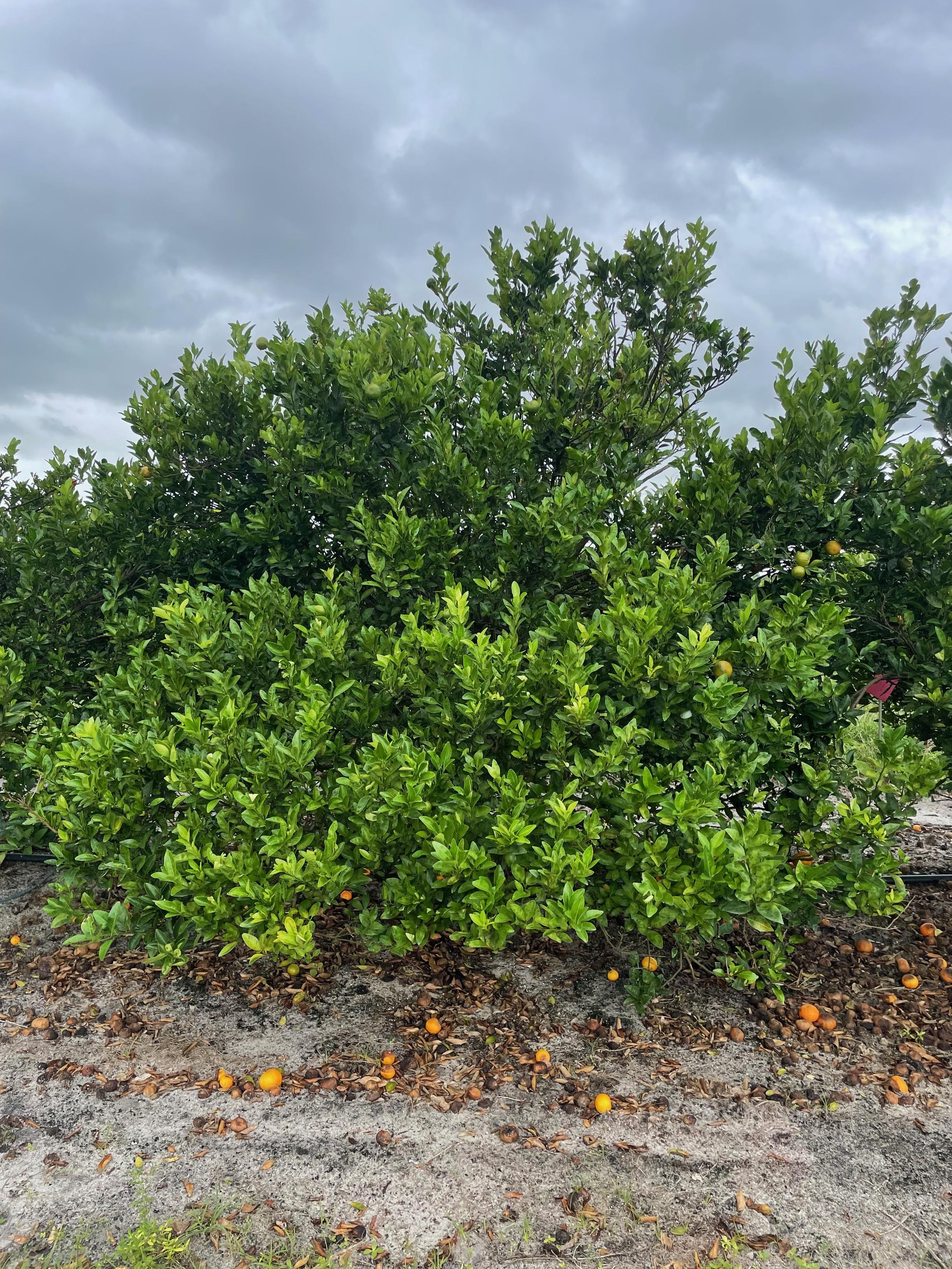fruit_on_ground: (792, 850, 815, 872), (712, 659, 734, 681), (363, 382, 383, 401), (896, 554, 914, 571), (825, 539, 843, 556), (795, 551, 811, 567), (525, 399, 541, 415), (790, 565, 807, 580), (254, 336, 270, 350), (139, 465, 153, 479), (425, 278, 437, 288), (68, 477, 78, 487)
fruit_on_tree: (257, 1065, 284, 1094), (592, 1091, 614, 1115), (797, 1001, 821, 1022), (498, 1123, 521, 1144), (639, 953, 660, 974), (532, 1046, 552, 1065), (918, 919, 939, 937), (854, 937, 875, 955), (424, 1016, 443, 1035), (818, 1013, 838, 1031), (30, 1014, 51, 1031), (929, 951, 948, 969), (754, 1199, 774, 1216), (882, 1089, 900, 1107), (379, 1050, 397, 1068), (901, 972, 920, 989), (379, 1063, 397, 1080), (895, 956, 913, 973), (728, 1026, 746, 1043), (854, 1000, 873, 1016), (219, 1073, 236, 1090), (465, 1084, 483, 1100), (937, 966, 952, 985), (338, 887, 355, 902), (605, 967, 621, 982), (882, 991, 898, 1005), (9, 932, 23, 946), (359, 865, 374, 878), (911, 822, 924, 833)
